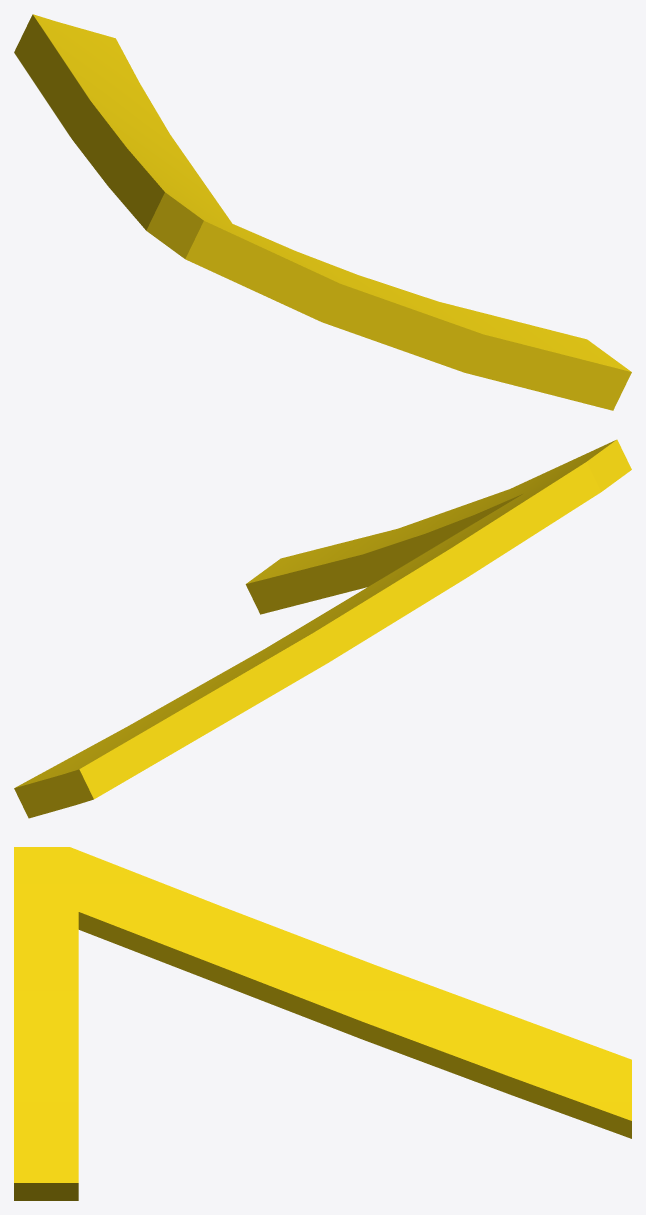
Rendered from Number_7.gltf.
The picture shows the model from 3 angles, top to bottom: view 1: azimuth 30°, elevation 25°; view 2: azimuth 150°, elevation 25°; view 3: azimuth 270°, elevation 25°; orthographic projection. The views are drawn at different scales.
Parts seen in each view (by area): view 1: Sub_5_Cell_1_2_Number_7; view 2: Sub_5_Cell_1_2_Number_7; view 3: Sub_5_Cell_1_2_Number_7.
Boxes of the visible parts, x1,y1,x2,y2 form: Sub_5_Cell_1_2_Number_7: (14, 14, 631, 410); Sub_5_Cell_1_2_Number_7: (14, 439, 631, 818); Sub_5_Cell_1_2_Number_7: (14, 847, 631, 1200).
Bounding box in the file's own units: 0.0152 × 0.00942 × 0.0252.
